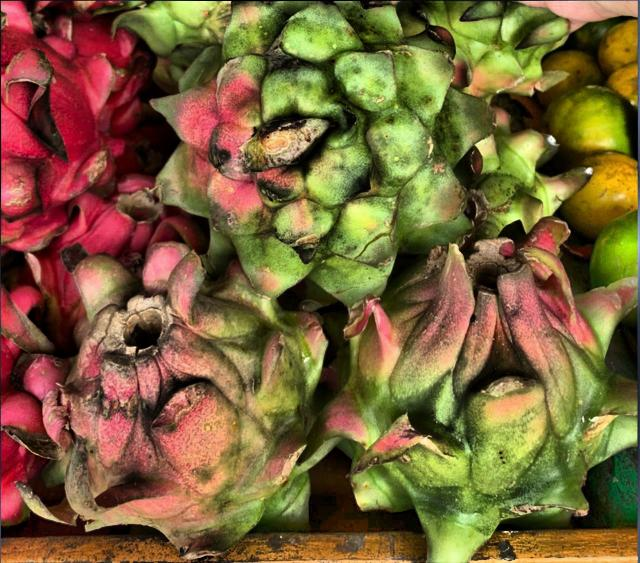buah-naga-belum-matang: (147, 0, 476, 292), (330, 254, 640, 556), (43, 246, 324, 552)
